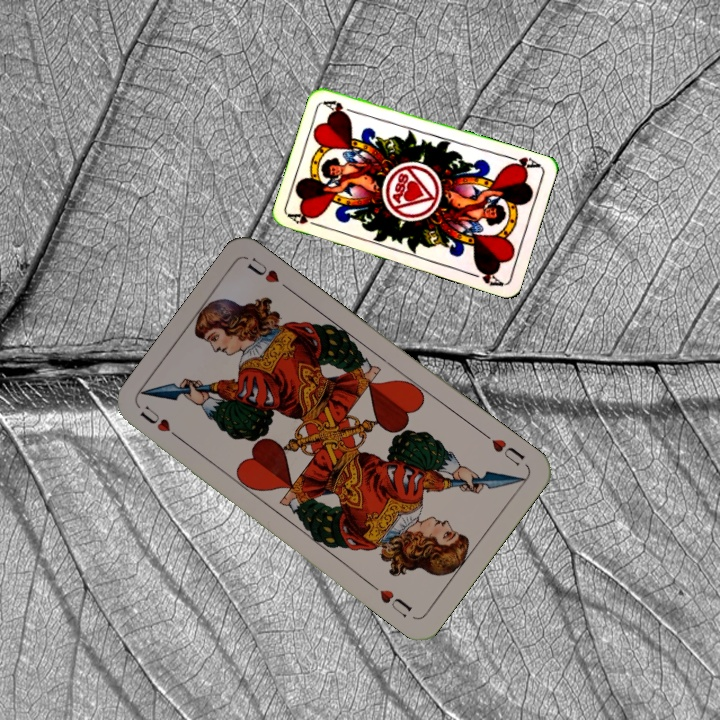HA: (286, 207, 326, 230), (503, 151, 543, 173)
HU: (136, 402, 186, 445), (478, 428, 528, 469)
